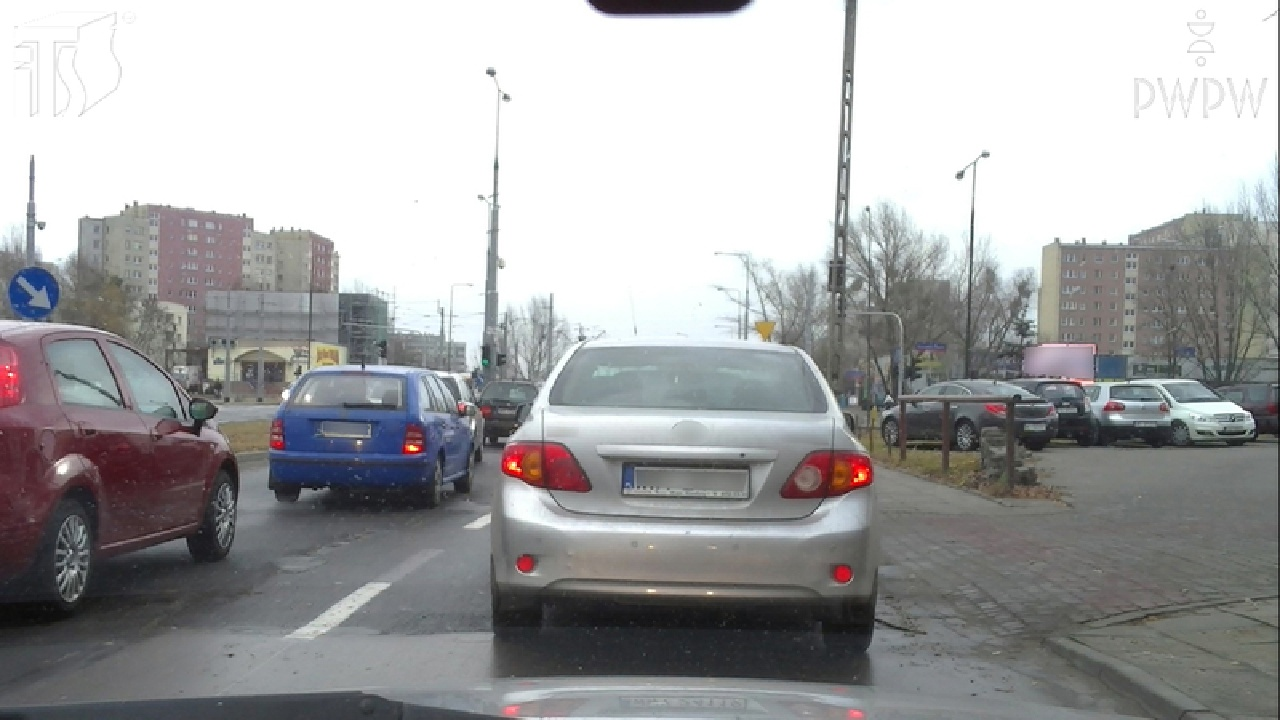C9: (8, 266, 60, 322)
